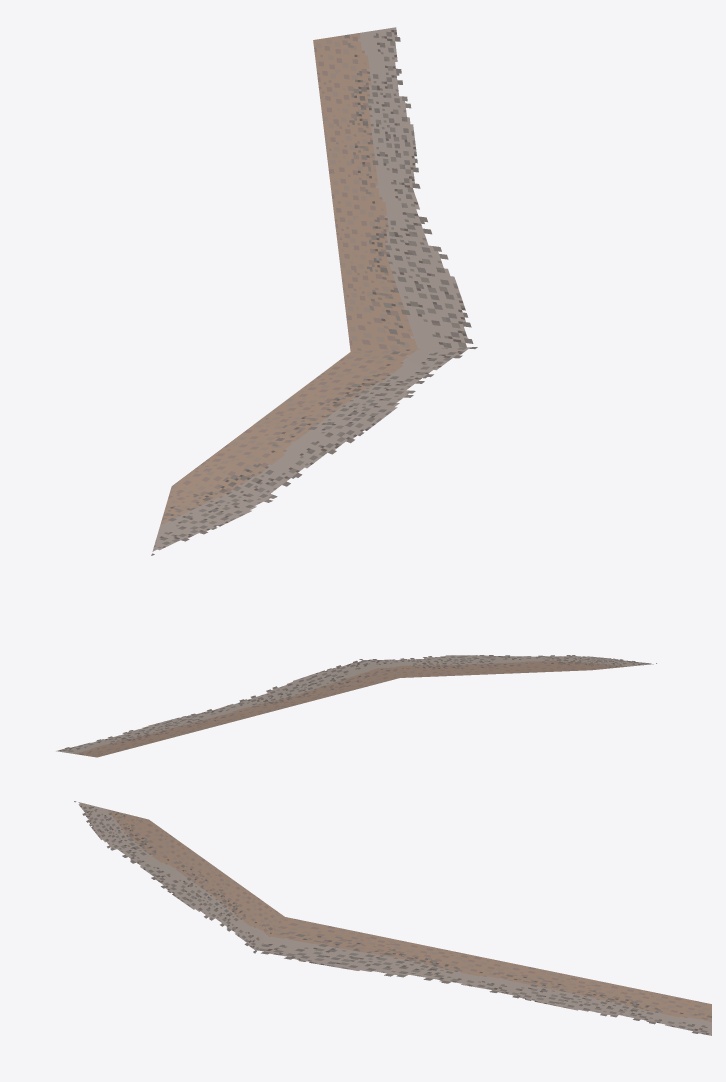
The model's file is kd_stage_135ded_4_138_exterior.glb.
3 renders of one model, top to bottom at view 1: azimuth 30°, elevation 25°; view 2: azimuth 150°, elevation 25°; view 3: azimuth 270°, elevation 25°, orthographic. The views are drawn at different scales.
Visible parts, largest first — view 1: kd_stage_135ded_4_138_exterior; view 2: kd_stage_135ded_4_138_exterior; view 3: kd_stage_135ded_4_138_exterior.
Boxes of the visible parts, x1=… form: kd_stage_135ded_4_138_exterior: x1=151, y1=27, x2=477, y2=555; kd_stage_135ded_4_138_exterior: x1=56, y1=655, x2=656, y2=757; kd_stage_135ded_4_138_exterior: x1=74, y1=801, x2=711, y2=1035.
Size of the model in its own units: 0.6868 by 0.0129 by 0.7187.
Materials: 1 (1 with a texture image).
